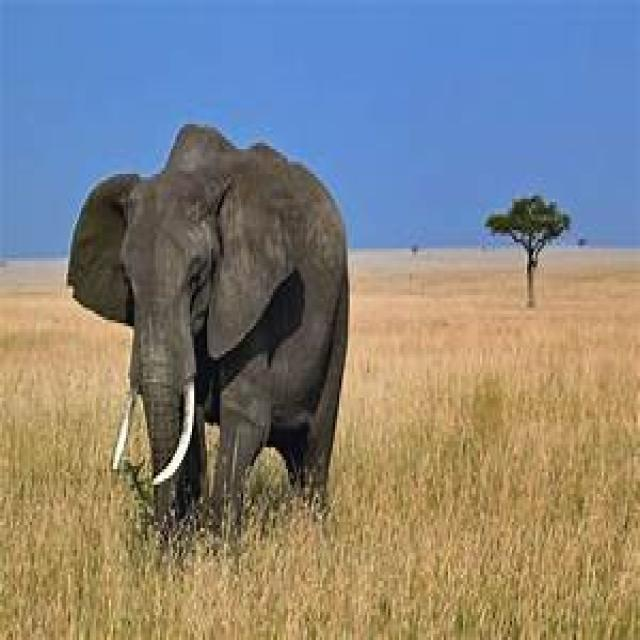elephant: (68, 124, 350, 531)
